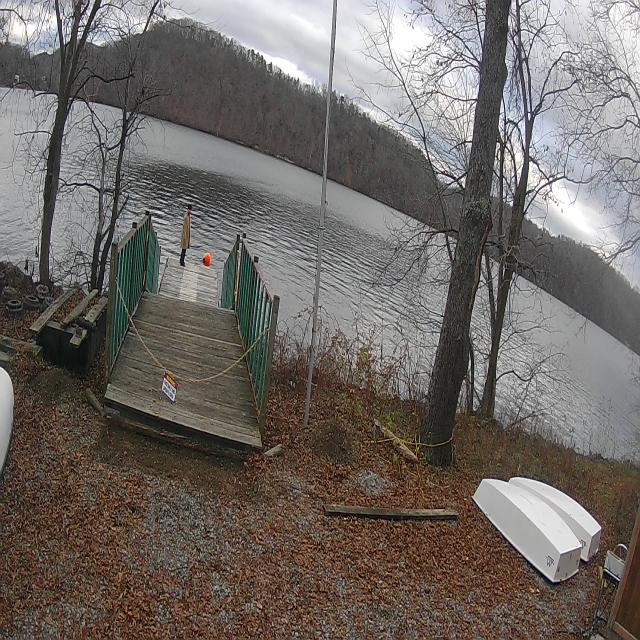Buoy: (201, 250, 212, 267)
